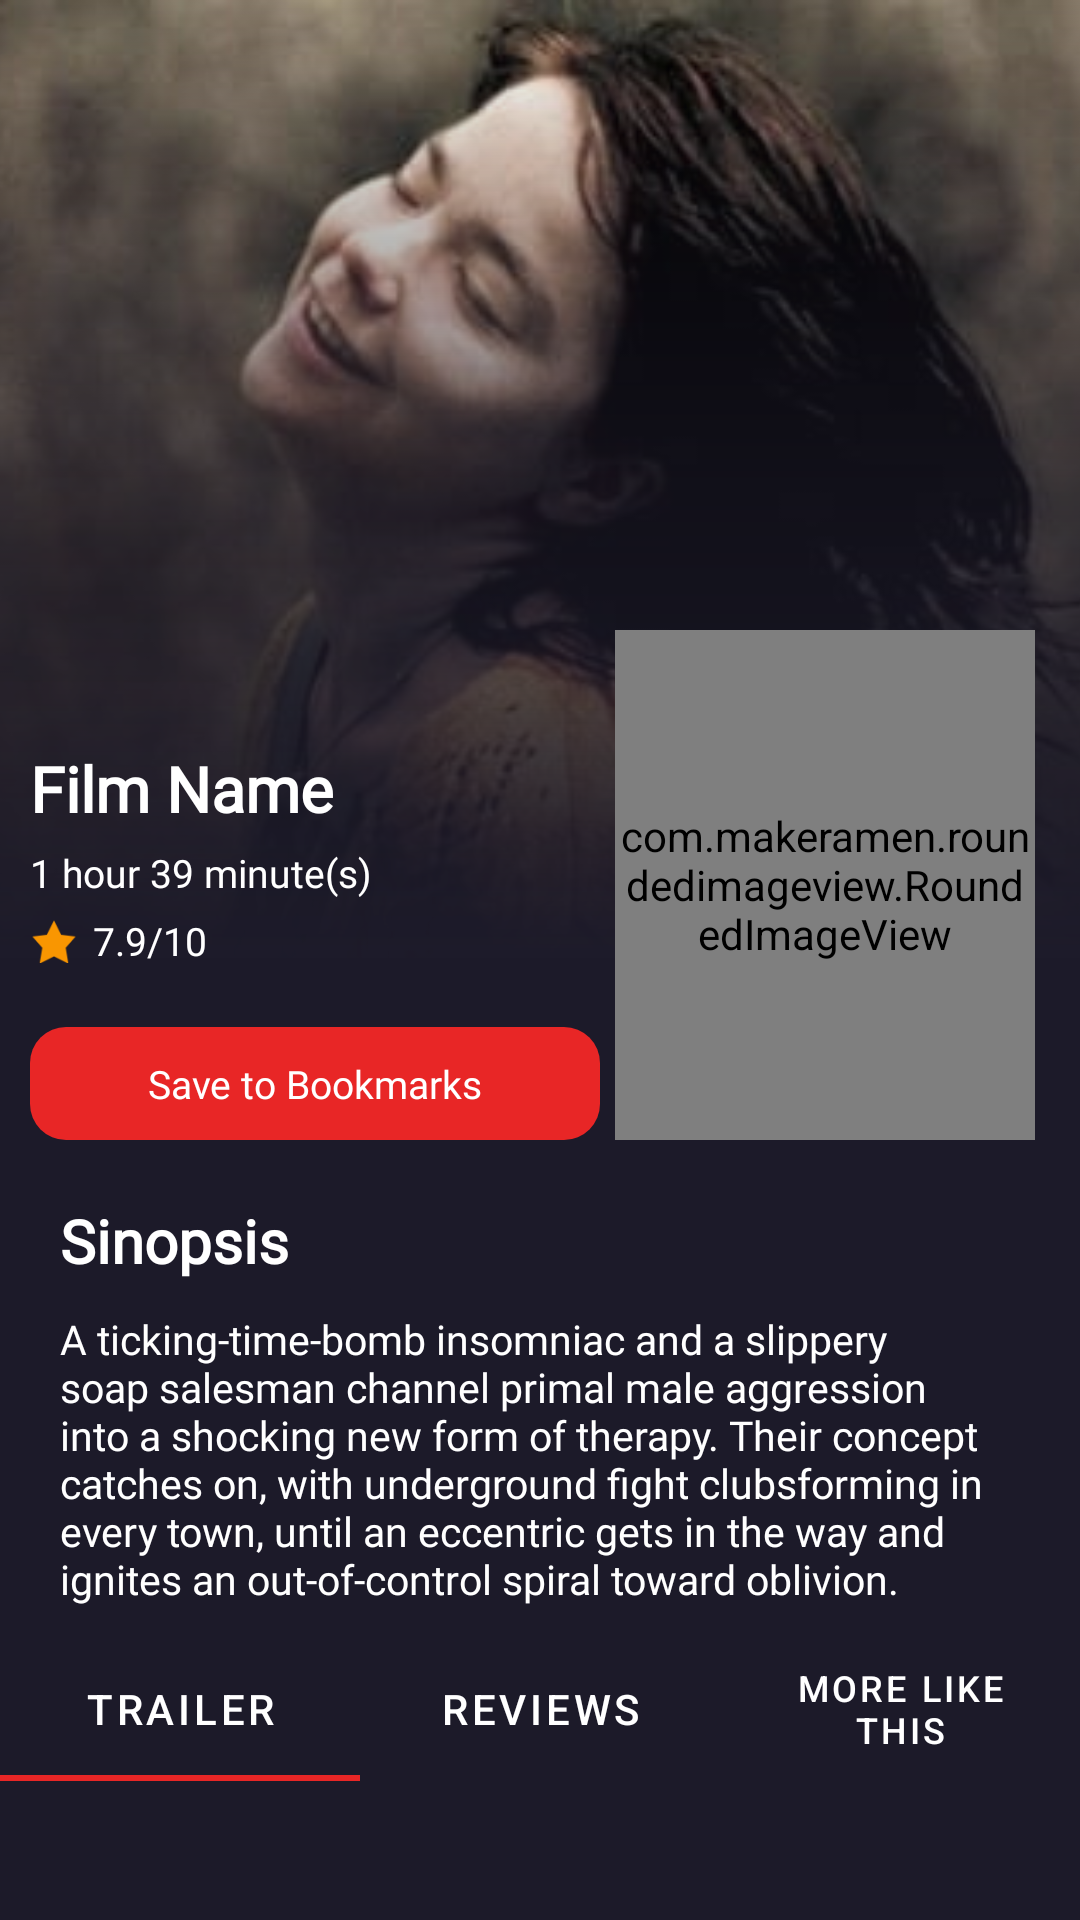

Where icons sit on this 1080*1920 app screen, as (x1=x1, y1=y1, x2=x2, y2=y2):
rating star: (x1=32, y1=921, x2=76, y2=963)
